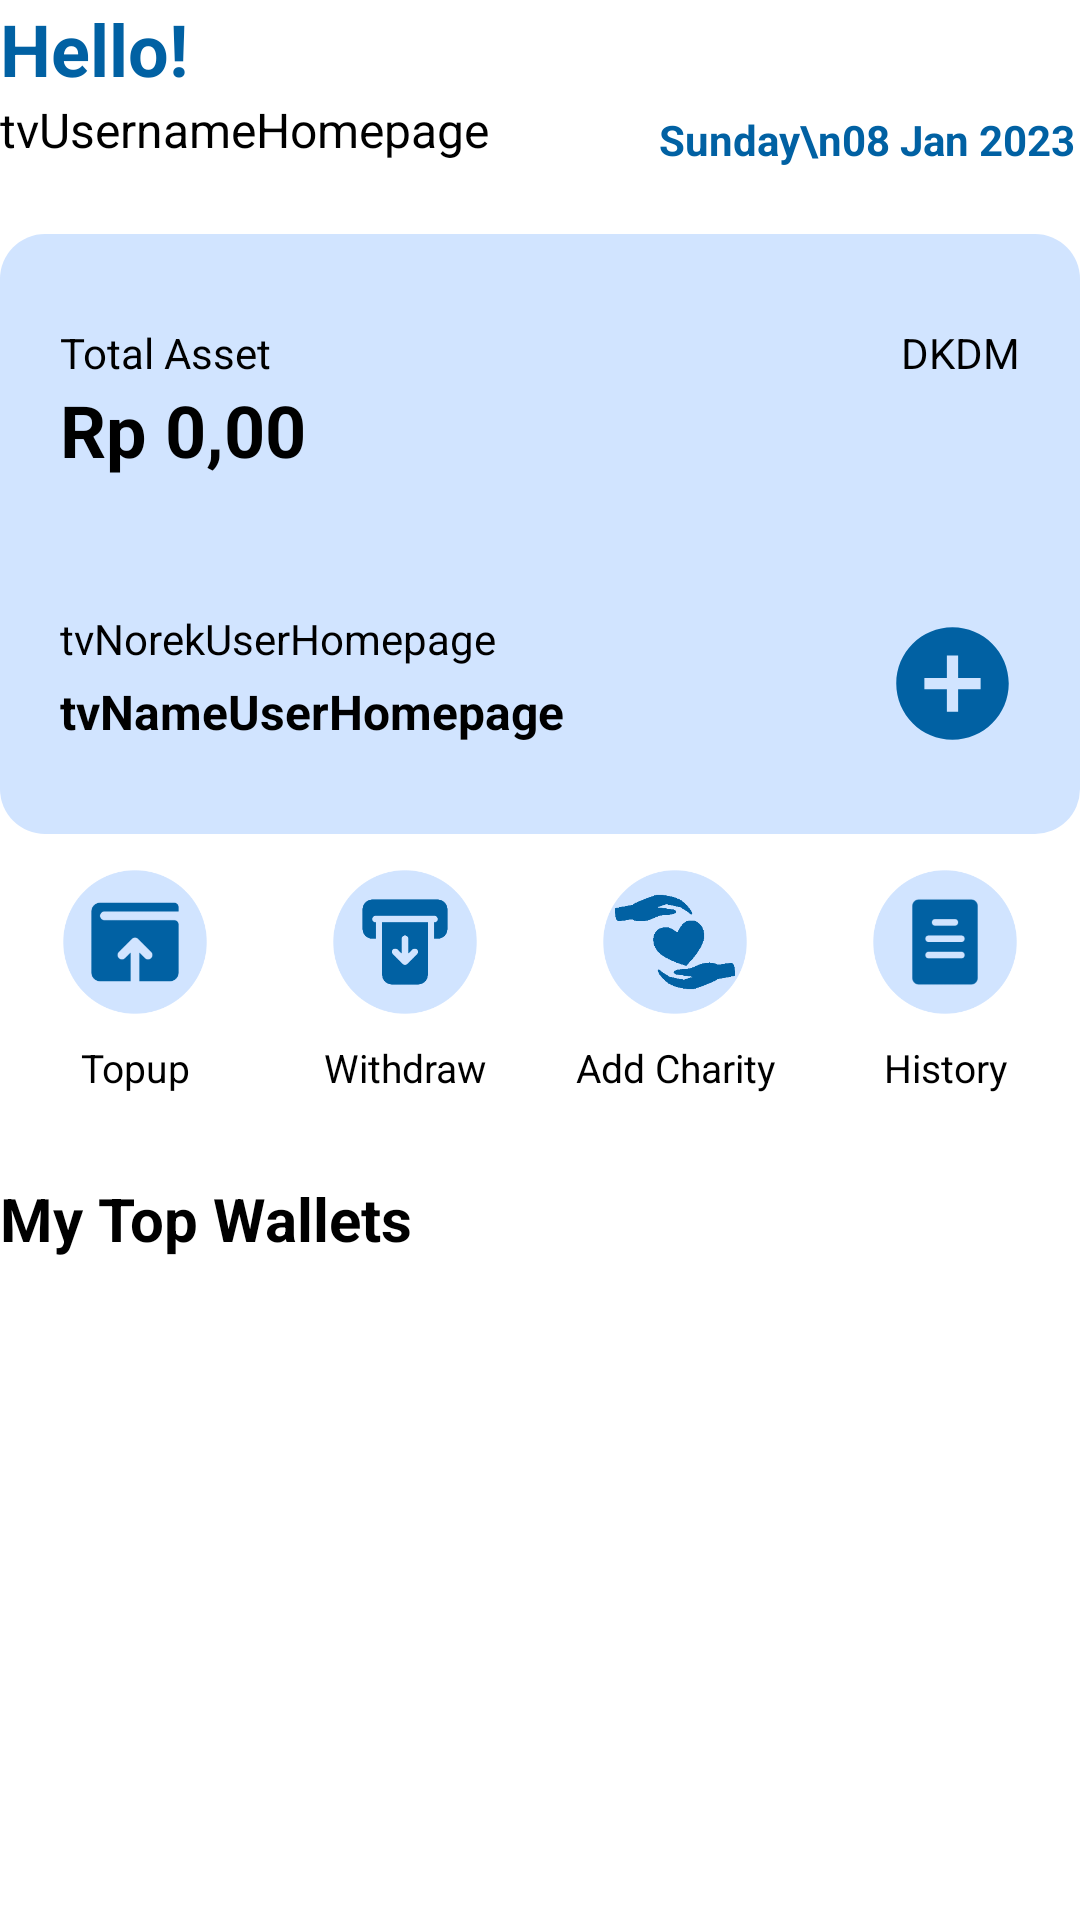

Icons on this 1080*1920 Android screen, each with the point to tap as (x,y):
add circle: (952,683)
